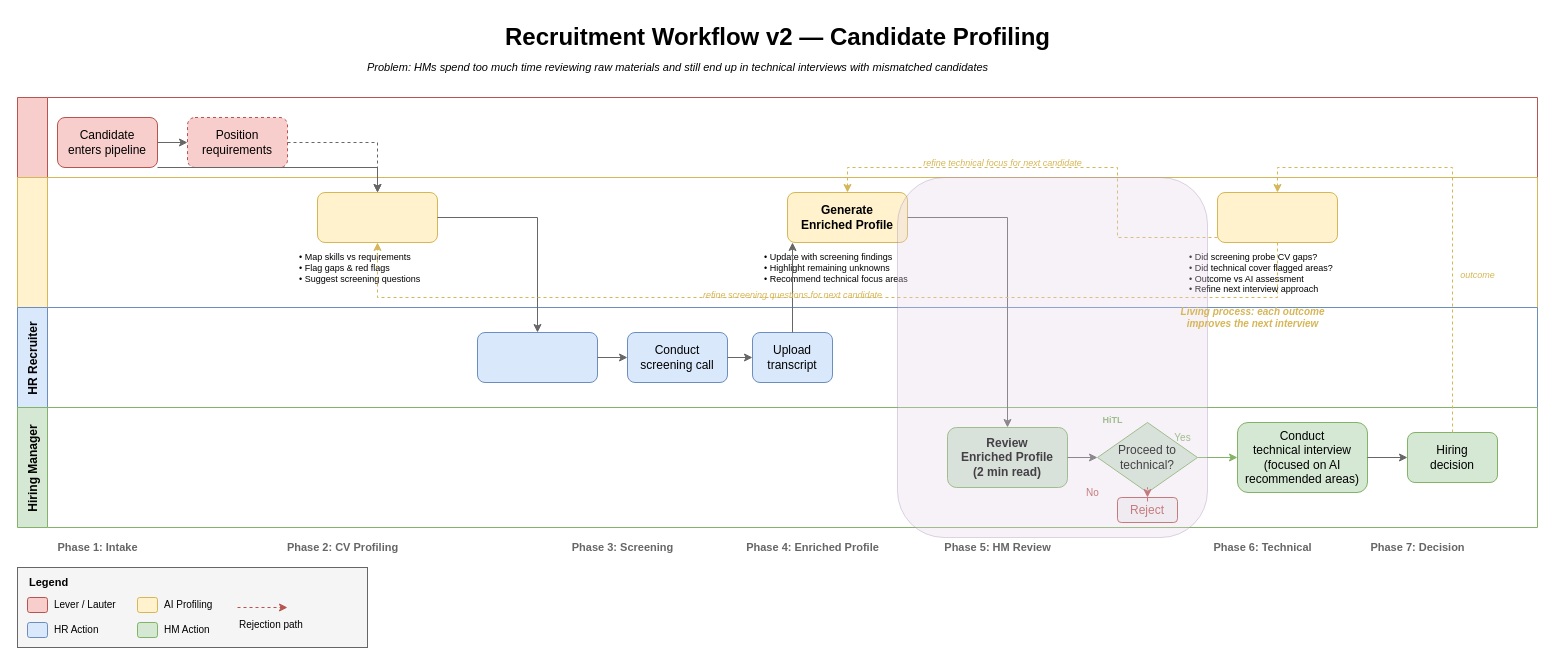
Some shapes in this 1555 by 665 pixel diagram are drawn without their labels. Each missing label, with the box of its shape:
Generate CV Brief Profile: (316, 192, 438, 242)
Lever (ATS) / Lauter: (16, 96, 1538, 178)
Process Feedback Analysis: (1216, 192, 1338, 242)
Review CV profile + screening questions: (476, 332, 598, 382)
System (Lauter AI): (16, 176, 1538, 308)
Value zone: HM reads 2-min profile instead of 30-min raw review: (896, 176, 1208, 538)
